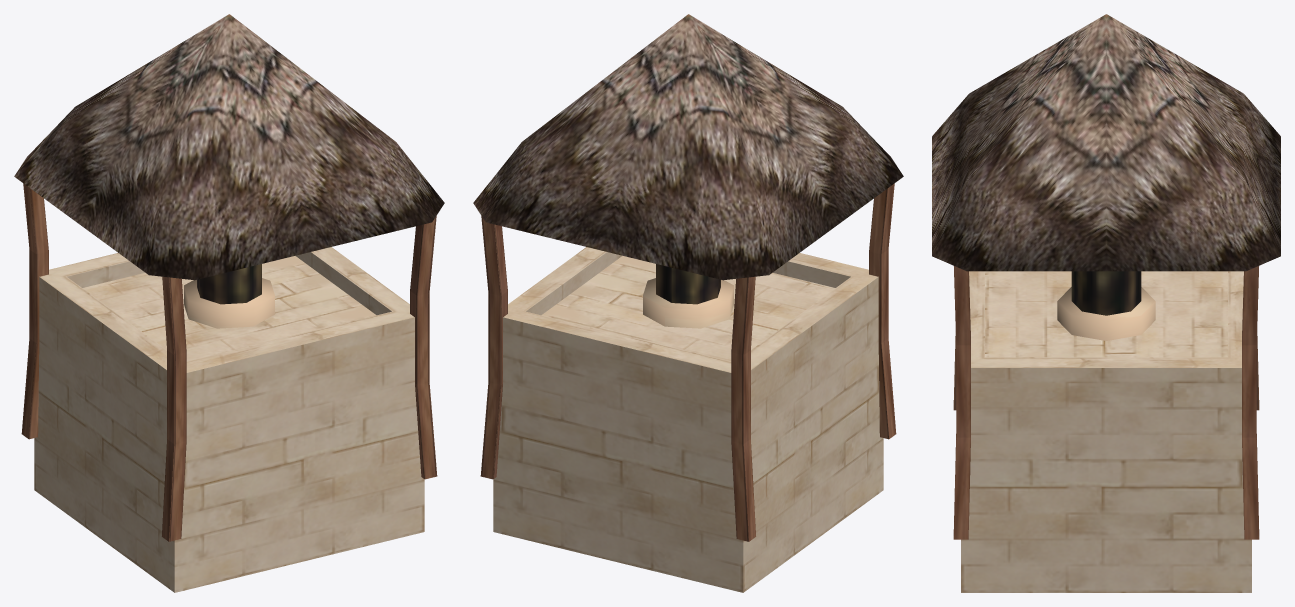
Rendered from water_pool.dae.
3 views of the same model, side by side, from view 1: azimuth 30°, elevation 25°; view 2: azimuth 150°, elevation 25°; view 3: azimuth 270°, elevation 25° (orthographic). The views are drawn at different scales.
Visible parts, largest first — view 1: Fuente; view 2: Fuente; view 3: Fuente.
Part boxes in pixels (x1,y1,x2,y2): Fuente: (14,14,444,592); Fuente: (473,14,903,592); Fuente: (932,14,1280,592).
Size of the model in its own units: 10.15 by 9.98 by 16.29.
